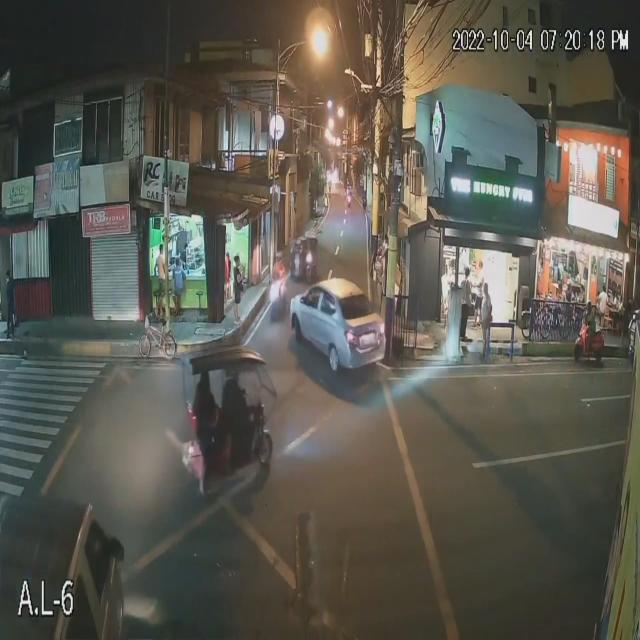Full-Faced: (274, 246, 286, 268)
